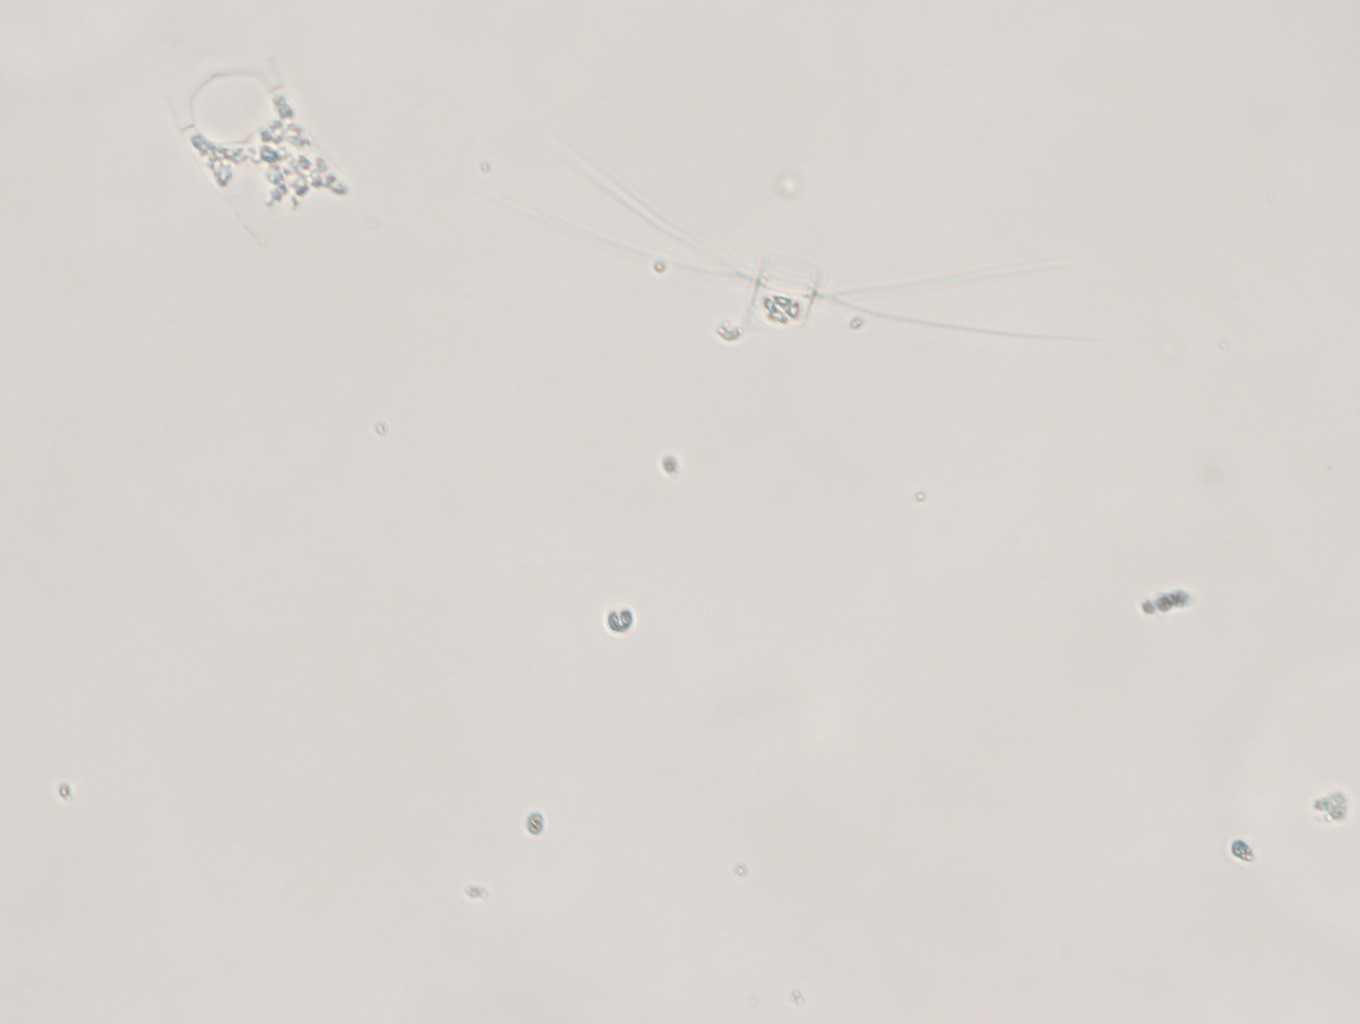chaetoceros: (510, 124, 1139, 378)
eucampia: (155, 43, 377, 255)
